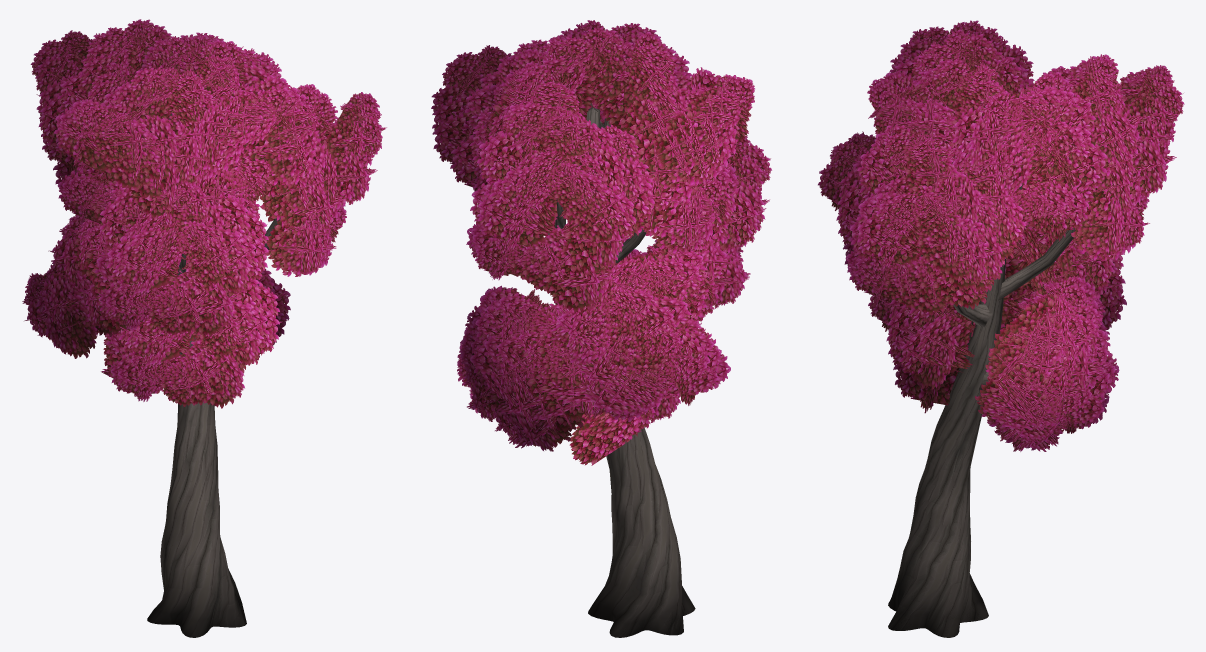
Rendered from TwistedTree_5.gltf.
3 views of the same model, side by side, from view 1: azimuth 30°, elevation 25°; view 2: azimuth 150°, elevation 25°; view 3: azimuth 270°, elevation 25° (orthographic). The views are drawn at different scales.
Visible parts, largest first — view 1: TwistedTree_5; view 2: TwistedTree_5; view 3: TwistedTree_5.
Boxes of the visible parts, x1=… form: TwistedTree_5: x1=22, y1=19, x2=386, y2=637; TwistedTree_5: x1=431, y1=20, x2=771, y2=637; TwistedTree_5: x1=818, y1=20, x2=1184, y2=637.
Size of the model in its own units: 9.49 by 15.66 by 9.39.
Materials: 2 (2 with a texture image).
